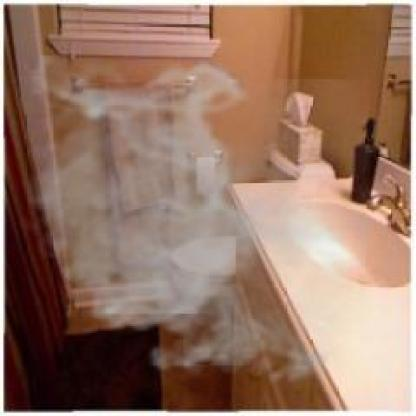Smoke: (11, 56, 370, 394)
